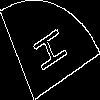H: (25, 25, 68, 79)
